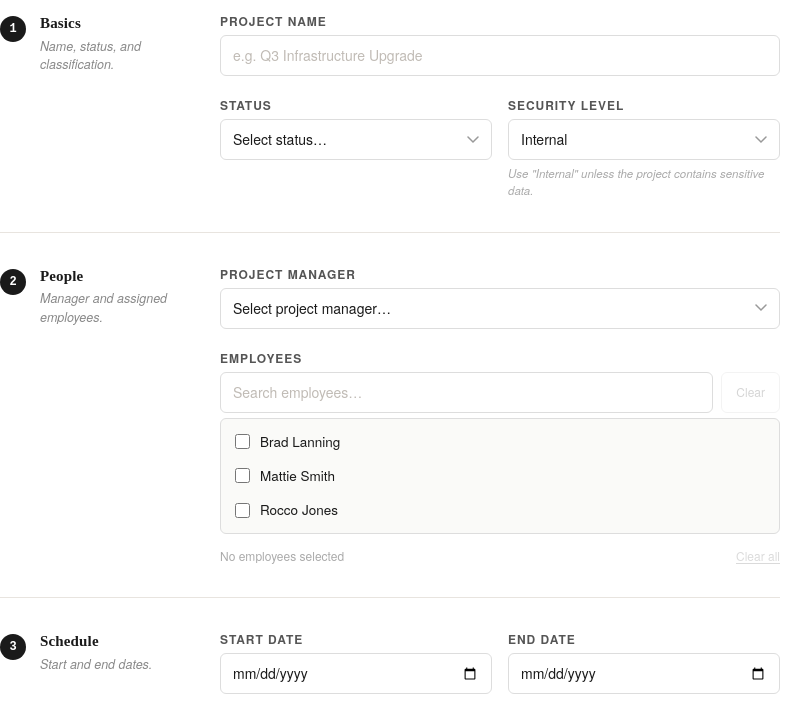
it: ProjectFormFields › shows a filtered empty-state message when no employees match the search
Type "zzz" into the field with placeholder "Search employees…" at x=467, y=392, box [220,372,713,412]
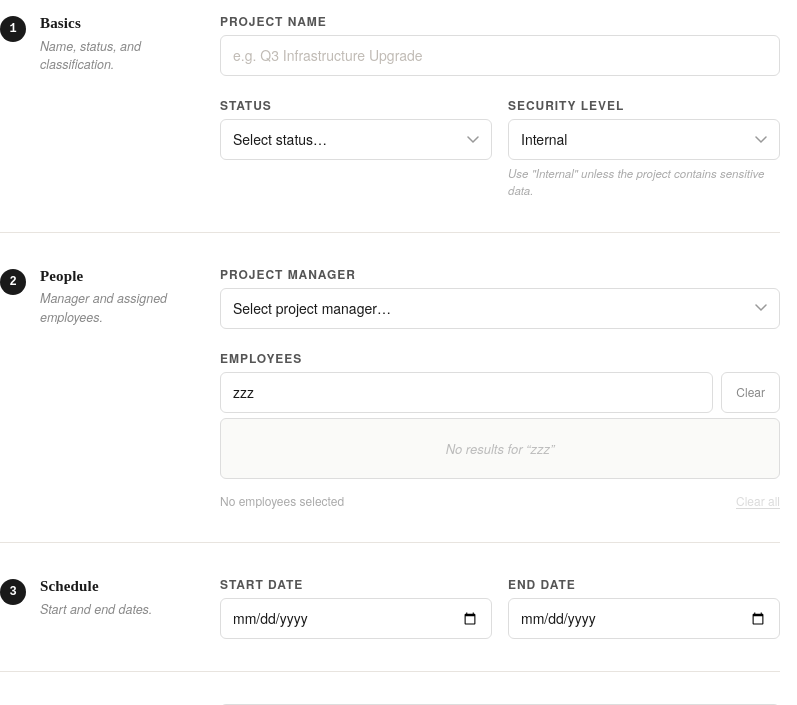
Expected: the text "No results for “zzz”" is shown, [446,438,554,458]
